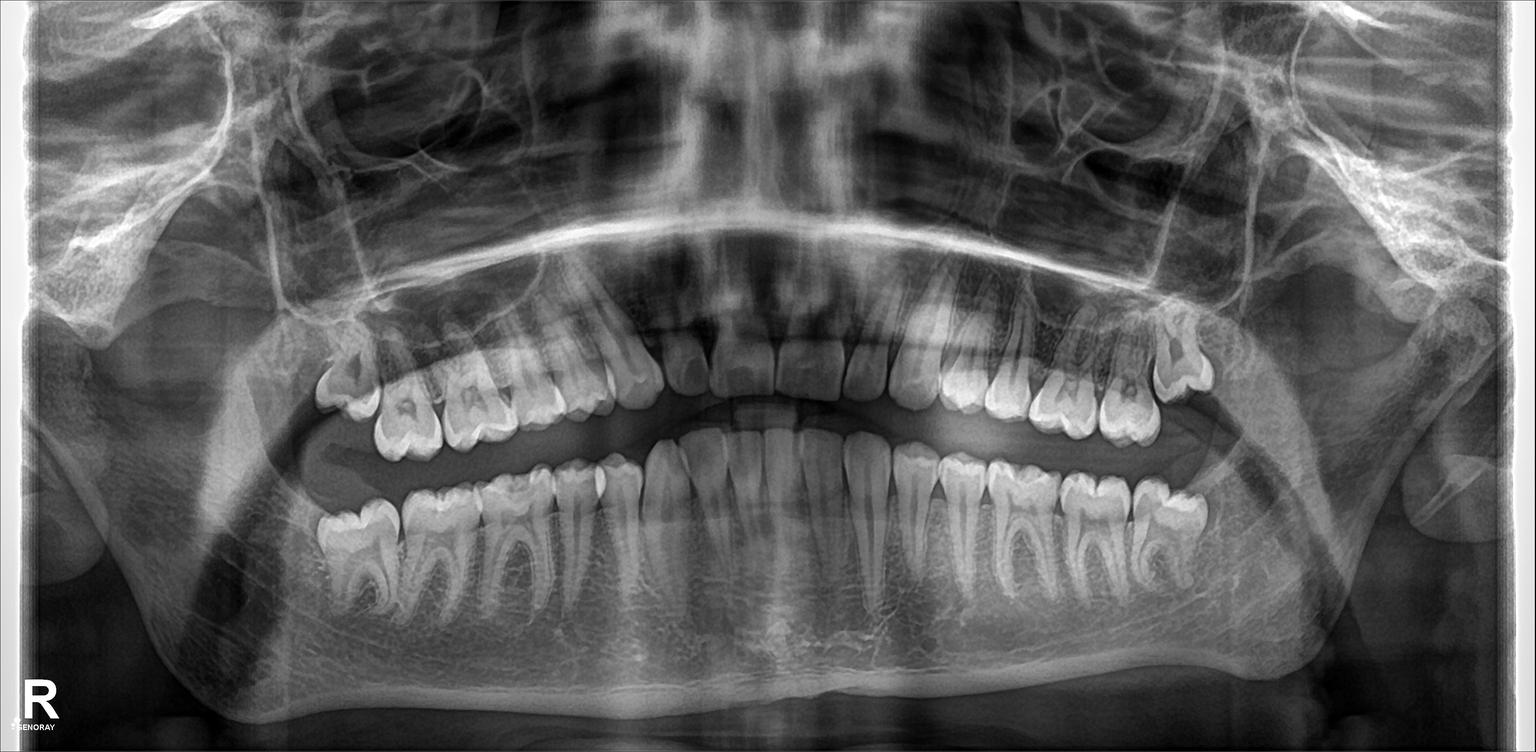Dental Caries: (670, 357, 714, 392)
